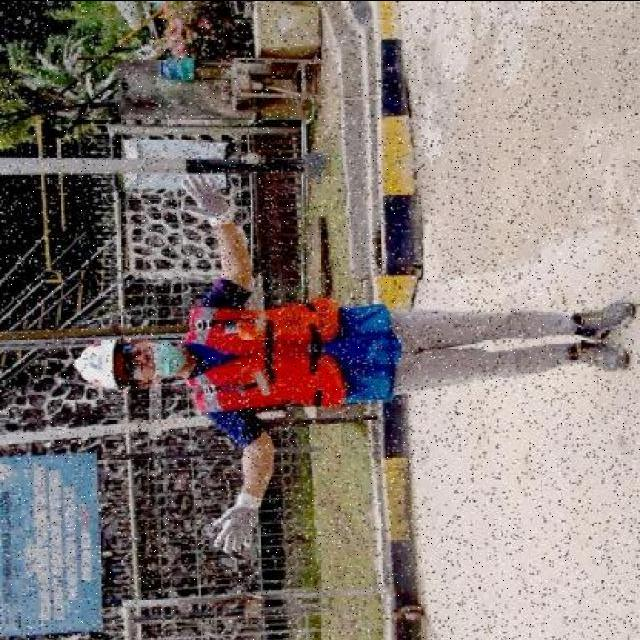Boots: (569, 300, 637, 340), (563, 340, 632, 372)
Helmet: (74, 336, 122, 390)
Vest: (178, 288, 400, 418)
